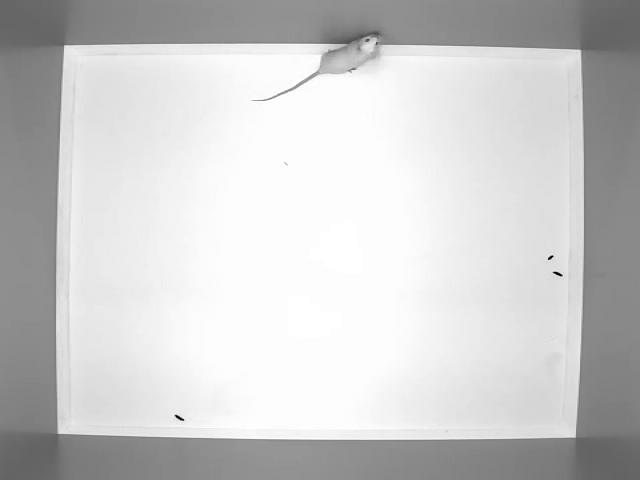Tikus: (253, 37, 414, 101)
